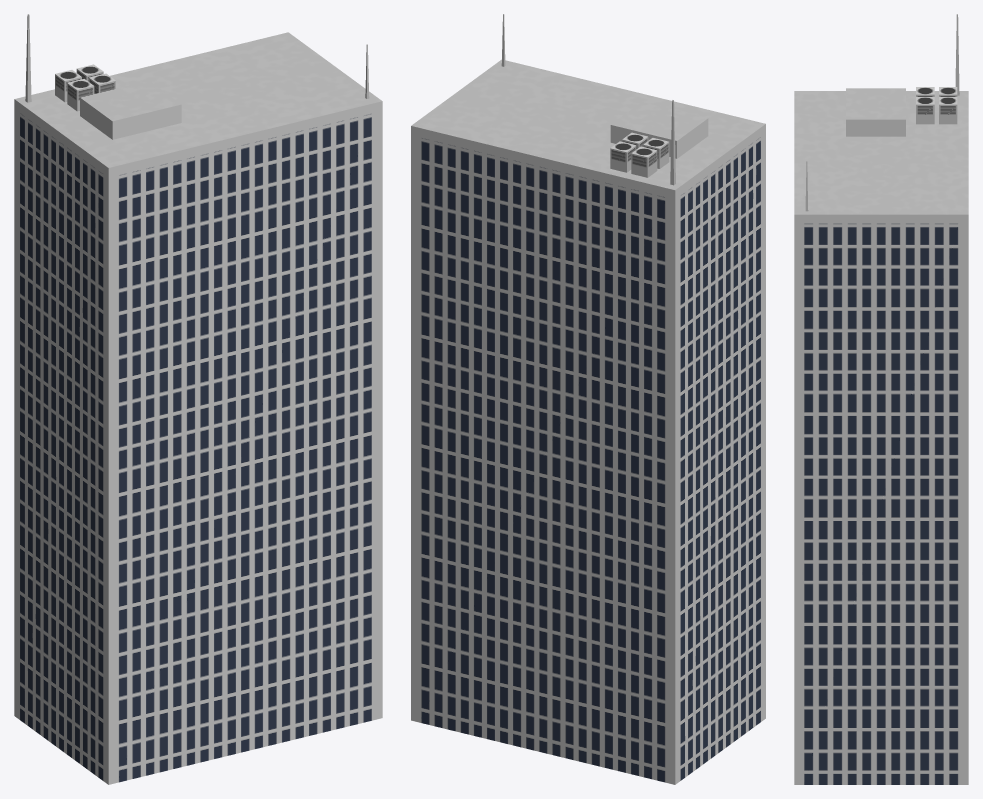
Rendered from Building_M_W3_001.fbx.
3 renders of one model, left to right at view 1: azimuth 30°, elevation 25°; view 2: azimuth 150°, elevation 25°; view 3: azimuth 270°, elevation 25°, orthographic. The views are drawn at different scales.
Visible parts, largest first — view 1: Building_M_W3_001; view 2: Building_M_W3_001; view 3: Building_M_W3_001.
Boxes of the visible parts, x1,y1,x2,y2 form: Building_M_W3_001: (14,14,382,784); Building_M_W3_001: (411,14,765,784); Building_M_W3_001: (794,14,968,784).
Bounding box in the file's own units: 55.54 × 136 × 33.06.
